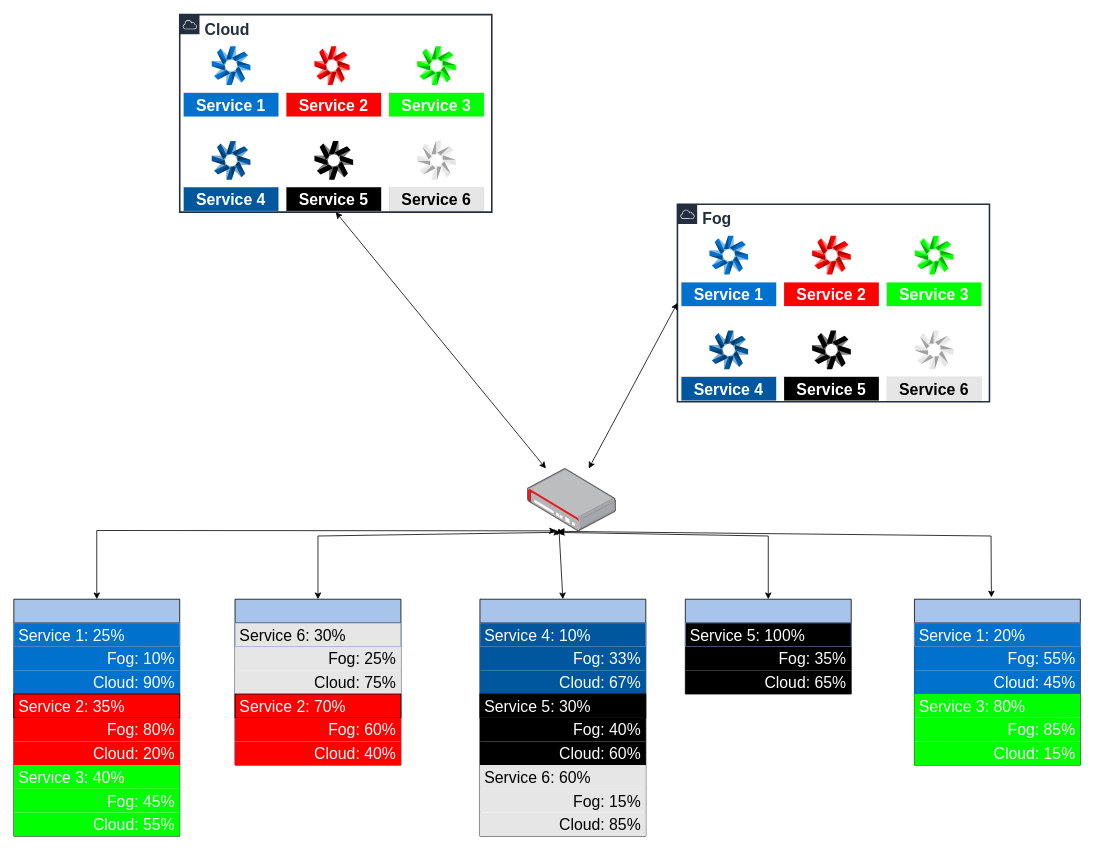
The diagram is 1094 pixels wide and 850 high, and some of its shapes have lost their labels. Here are the shapes that lost their labels. From the top down, the box of each, then its label:
(685, 598, 851, 694): User 4
(234, 598, 401, 765): User 2
(914, 598, 1080, 765): User 5
(13, 598, 180, 836): User 1
(479, 598, 646, 836): User 3
